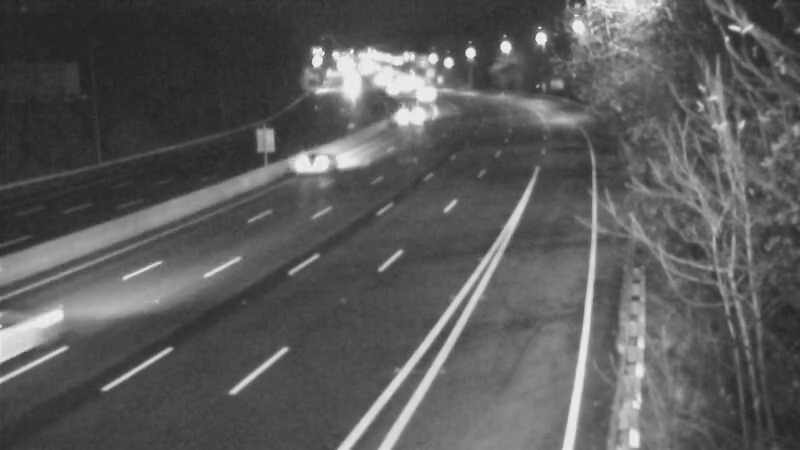vehicle: (1, 273, 98, 383), (276, 124, 356, 204), (403, 68, 453, 118), (384, 91, 434, 141)
